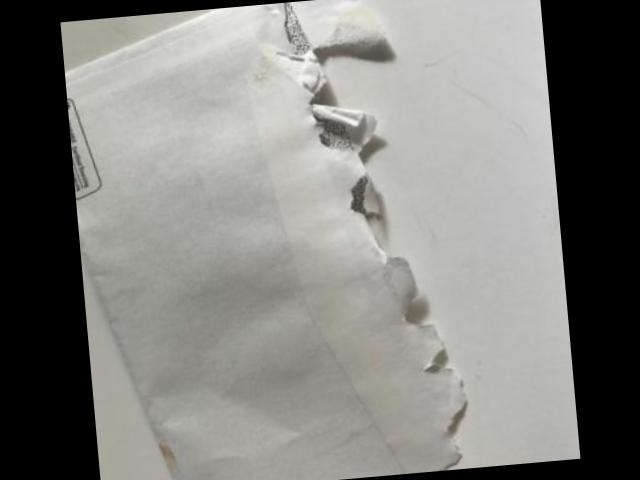cardboard paper: (64, 0, 468, 480)
